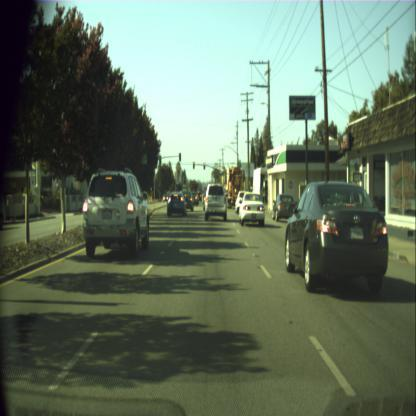Red: (202, 161, 204, 170), (192, 161, 194, 168)
